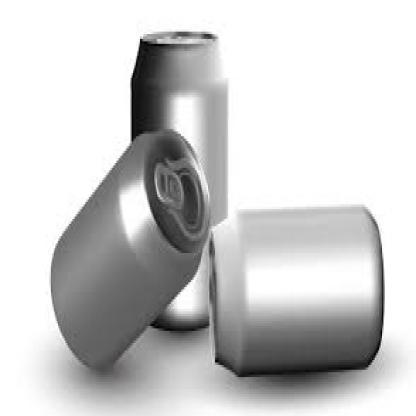METAL: (50, 124, 210, 372), (207, 202, 384, 370), (129, 32, 226, 330)
